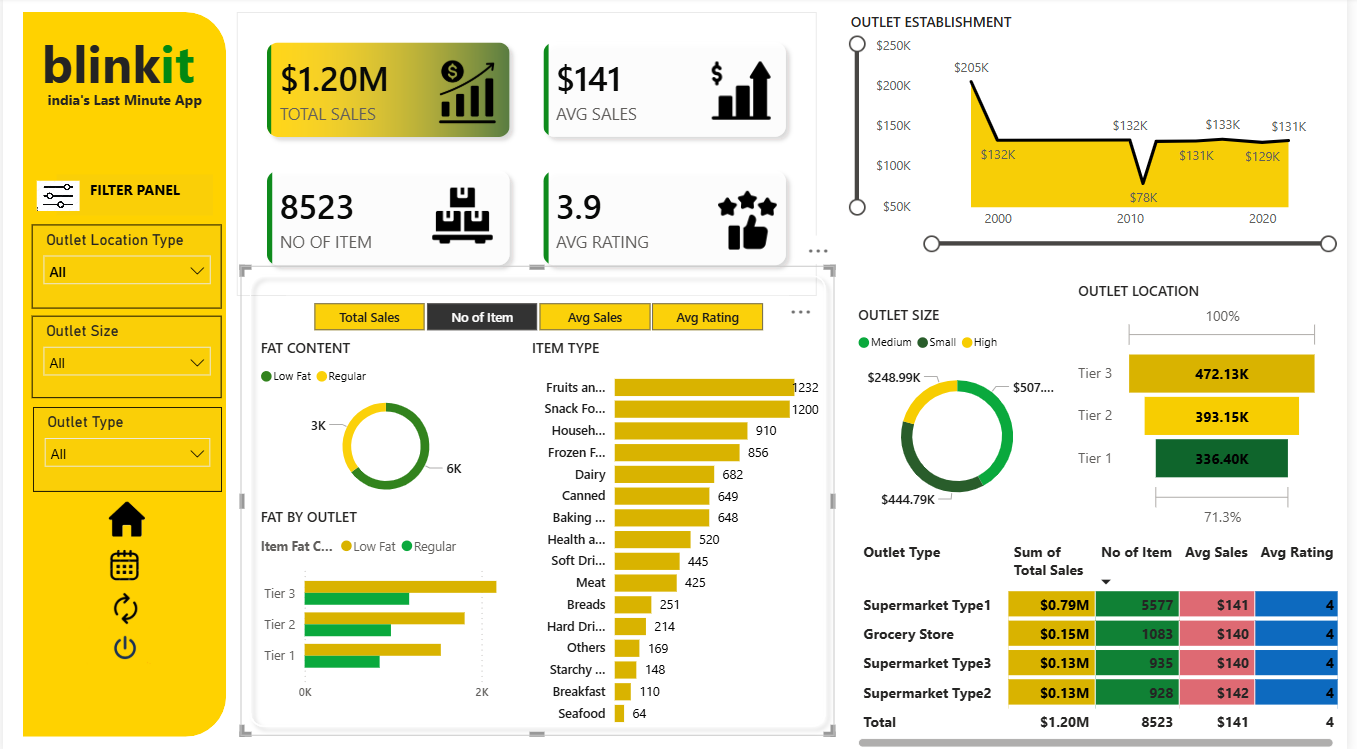

The dashboard page shown, as its layout file describes it:
{"tool":"powerbi","page":{"name":"Blinkit","canvas":[1280,720],"ordinal":0},"visuals":[{"type":"shape","box":[19.2,13.7,193.5,690.2],"z":0},{"type":"textbox","box":[32.1,25,167.9,76.2],"z":1000},{"type":"textbox","box":[32.5,83.1,167.5,37.7],"z":2000},{"type":"cardVisual","fields":{"Data":["Sum(BlinkIT Grocery Data.Total Sales)","BlinkIT Grocery Data.Avg Sales","BlinkIT Grocery Data.No of Item","BlinkIT Grocery Data.Avg Rating"]},"box":[222.6,14.3,552.4,270.2],"z":3000},{"type":"shape","box":[226,255.8,566.2,448.1],"z":4000},{"type":"donutChart","title":"FAT CONTENT","fields":{"Y":["BlinkIT Grocery Data.No of Item"],"Category":["BlinkIT Grocery Data.Item Fat Content"]},"box":[240.5,325,248.8,160.7],"z":5000},{"type":"slicer","fields":{"Values":["matrics.matrics"]},"box":[270.3,284,477.5,39.8],"z":6000},{"type":"clusteredBarChart","title":" FAT BY OUTLET","fields":{"Y":["BlinkIT Grocery Data.No of Item"],"Category":["BlinkIT Grocery Data.Outlet Location Type"],"Series":["BlinkIT Grocery Data.Item Fat Content"]},"box":[240.3,485.7,311.7,193.5],"z":7000},{"type":"barChart","title":"ITEM TYPE","fields":{"Y":["BlinkIT Grocery Data.No of Item"],"Category":["BlinkIT Grocery Data.Item Type"]},"box":[498.7,324.7,283.1,379.2],"z":8000},{"type":"shape","box":[802.6,0,475.3,719.5],"z":9000},{"type":"lineChart","title":"OUTLET ESTABLISHMENT","fields":{"Y":["Sum(BlinkIT Grocery Data.Total Sales)"],"Category":["BlinkIT Grocery Data.Outlet Establishment Year"]},"box":[802.6,14.3,477.9,231.2],"z":10000},{"type":"donutChart","title":"OUTLET SIZE","fields":{"Y":["Sum(BlinkIT Grocery Data.Total Sales)"],"Category":["BlinkIT Grocery Data.Outlet Size"]},"box":[809.5,292.9,198.8,206],"z":11000},{"type":"funnel","title":"OUTLET LOCATION ","fields":{"Y":["BlinkIT Grocery Data.Sales"],"Category":["BlinkIT Grocery Data.Outlet Location Type"]},"box":[1019.5,270.1,240.3,240.3],"z":12000},{"type":"pivotTable","fields":{"Rows":["BlinkIT Grocery Data.Outlet Type"],"Values":["Sum(BlinkIT Grocery Data.Total Sales)","BlinkIT Grocery Data.No of Item","BlinkIT Grocery Data.Avg Sales","BlinkIT Grocery Data.Avg Rating"]},"box":[809.1,510.4,466.2,209.1],"z":13000},{"type":"slicer","fields":{"Values":["BlinkIT Grocery Data.Outlet Location Type"]},"box":[27.4,216.7,181,79.8],"z":14000},{"type":"slicer","fields":{"Values":["BlinkIT Grocery Data.Outlet Size"]},"box":[27.4,303.6,181,78.6],"z":15000},{"type":"slicer","fields":{"Values":["BlinkIT Grocery Data.Outlet Type"]},"box":[28.6,390.5,179.8,81],"z":16000},{"type":"textbox","box":[51.2,169,148.8,39.3],"z":17000},{"type":"image","box":[409.5,59.5,65.5,61.9],"z":18000},{"type":"image","box":[669.1,59.5,67.9,59.5],"z":19000},{"type":"image","box":[400,179.8,75,57.1],"z":20000},{"type":"image","box":[681,179.8,56,65.5],"z":21000},{"type":"image","box":[32.1,175,40.5,28.6],"z":22000},{"type":"image","box":[100,471.4,35.7,51.2],"z":26001},{"type":"image","box":[98.8,557.1,35.7,50],"z":26002},{"type":"image","box":[91.7,514.3,47.6,56],"z":26003},{"type":"image","box":[77.4,582.1,77.4,76.2],"z":26004}]}

Visuals, with their boxes in screenshot pixels (x1, y1, x2, y2), scaled from the page's 1280x720 canvas onto the 1357x749 screenshot:
shape: rect(20, 14, 225, 732)
textbox: rect(34, 26, 212, 105)
textbox: rect(34, 86, 212, 126)
cardVisual - Sum(BlinkIT Grocery Data.Total Sales) x BlinkIT Grocery Data.Avg Sales: rect(236, 15, 822, 296)
shape: rect(240, 266, 840, 732)
"FAT CONTENT" donutChart: rect(255, 338, 519, 505)
slicer - matrics.matrics: rect(287, 295, 793, 337)
" FAT BY OUTLET" clusteredBarChart: rect(255, 505, 585, 707)
"ITEM TYPE" barChart: rect(529, 338, 829, 732)
shape: rect(851, 0, 1355, 748)
"OUTLET ESTABLISHMENT" lineChart: rect(851, 15, 1356, 255)
"OUTLET SIZE" donutChart: rect(858, 305, 1069, 519)
"OUTLET LOCATION " funnel: rect(1081, 281, 1336, 531)
pivotTable - BlinkIT Grocery Data.Outlet Type x Sum(BlinkIT Grocery Data.Total Sales): rect(858, 531, 1352, 748)
slicer - BlinkIT Grocery Data.Outlet Location Type: rect(29, 225, 221, 308)
slicer - BlinkIT Grocery Data.Outlet Size: rect(29, 316, 221, 398)
slicer - BlinkIT Grocery Data.Outlet Type: rect(30, 406, 221, 490)
textbox: rect(54, 176, 212, 217)
image: rect(434, 62, 504, 126)
image: rect(709, 62, 781, 124)
image: rect(424, 187, 504, 246)
image: rect(722, 187, 781, 255)
image: rect(34, 182, 77, 212)
image: rect(106, 490, 144, 544)
image: rect(105, 580, 143, 632)
image: rect(97, 535, 148, 593)
image: rect(82, 606, 164, 685)
